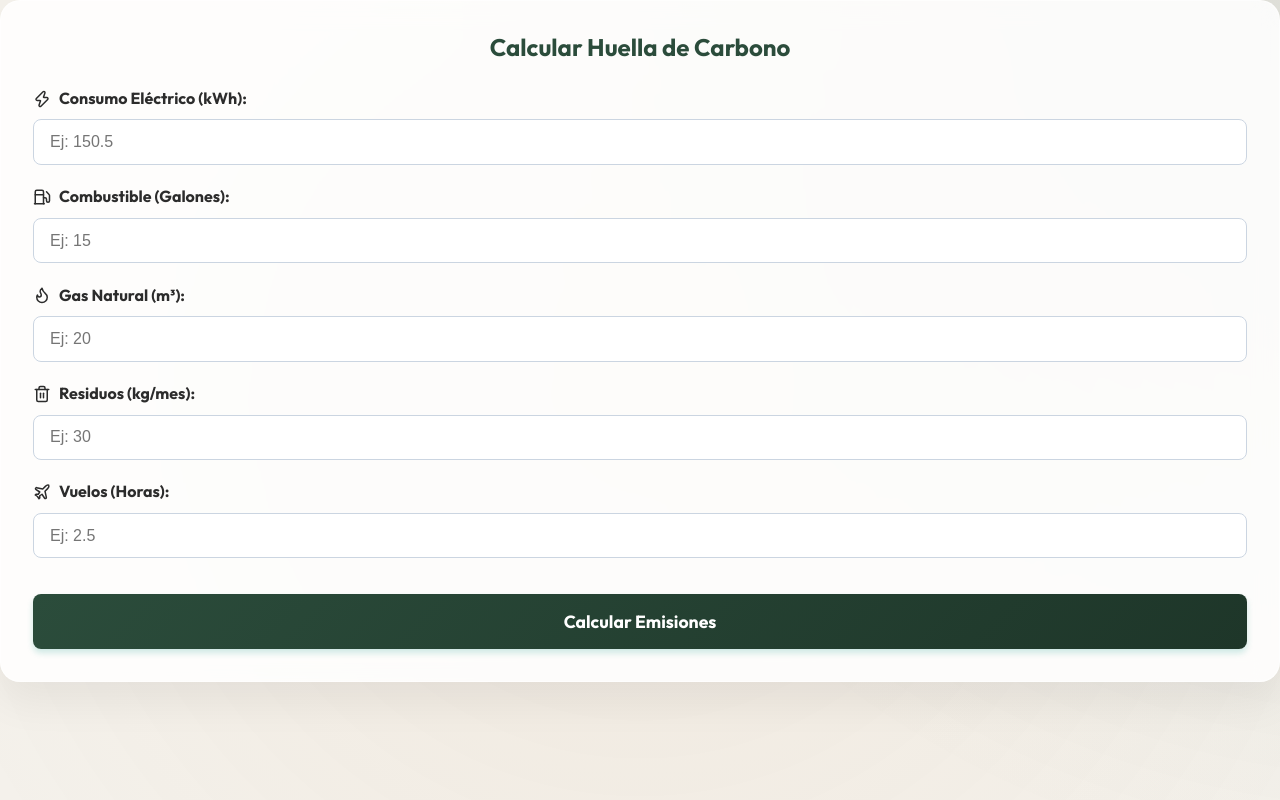
it: EmissionForm Component › shows error if negative values are provided
Type "-10" into the number field labelled "Consumo Eléctrico (kWh):". click: (640, 142)
box: [33,119,1247,165]
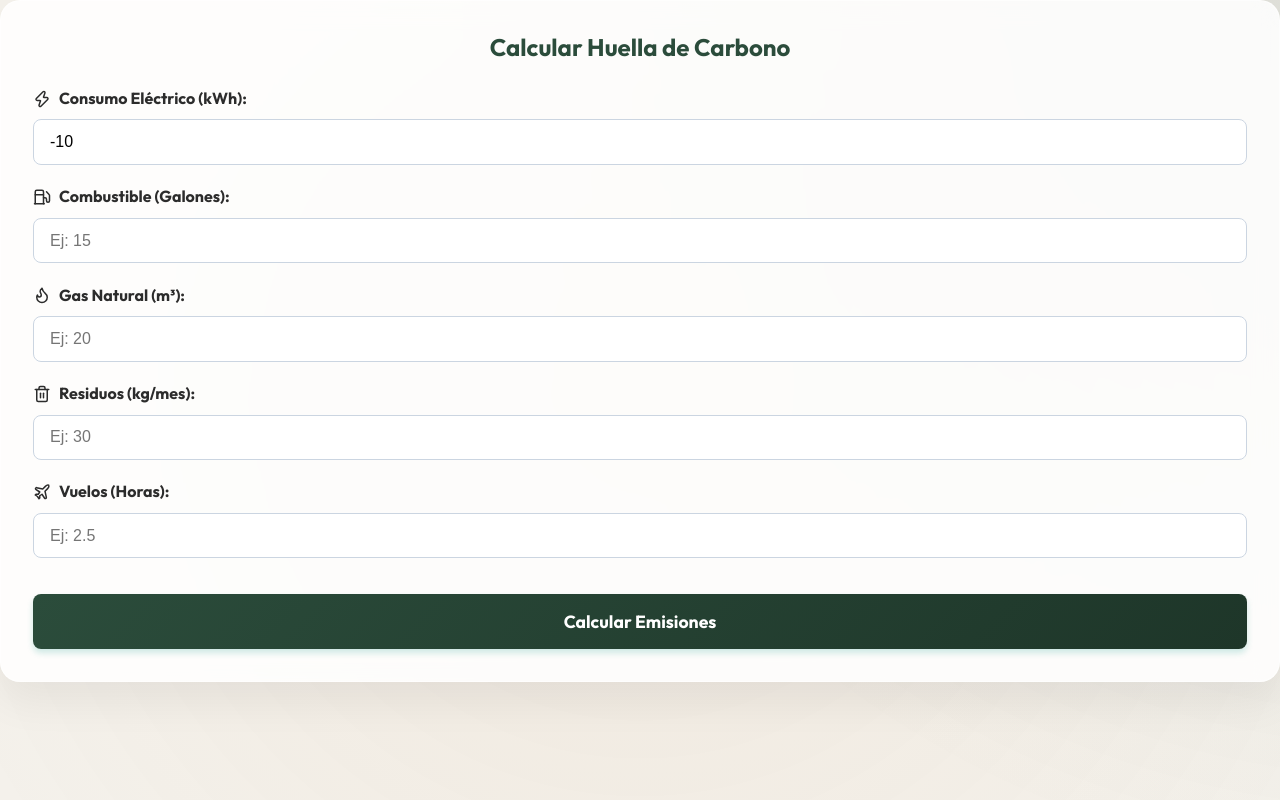
Type "10" into the number field labelled "Combustible (Galones):". click: (640, 241)
box: [33,218,1247,263]
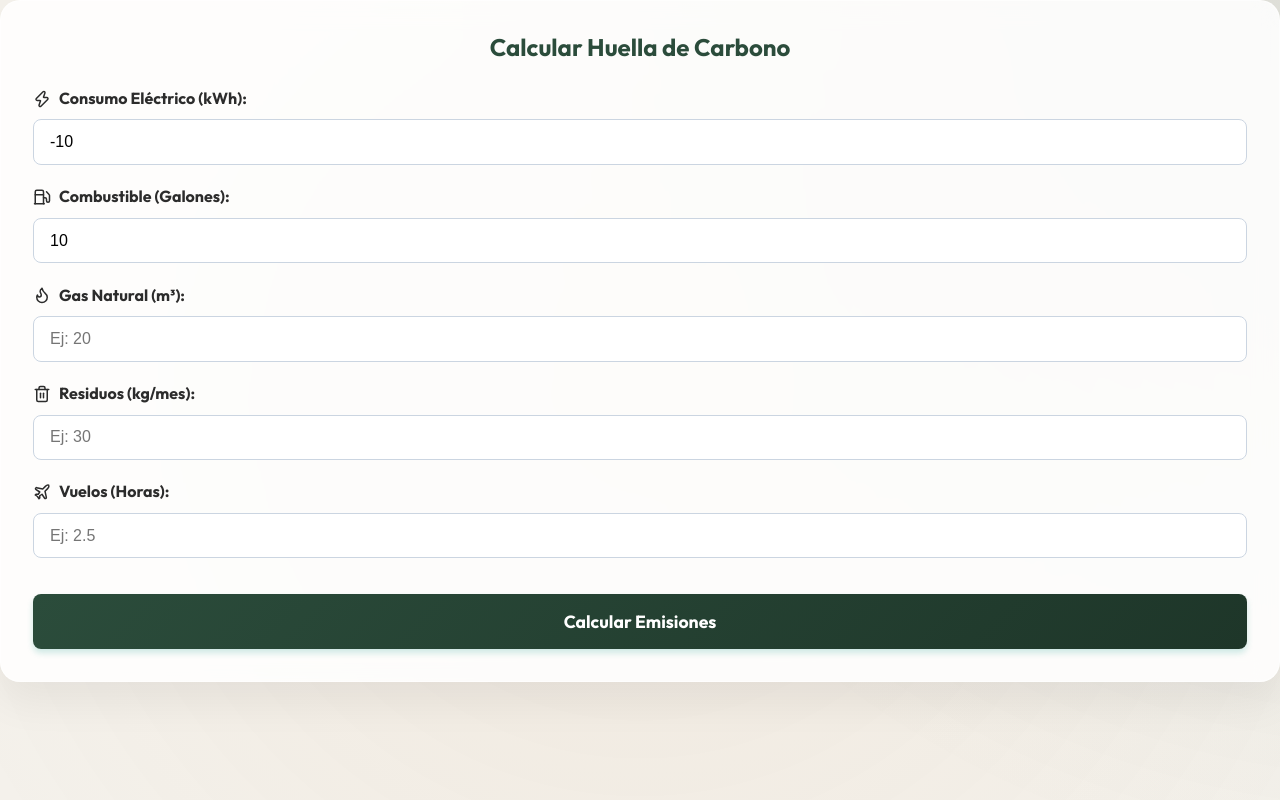
Submit the form named "Calcular Emisiones"
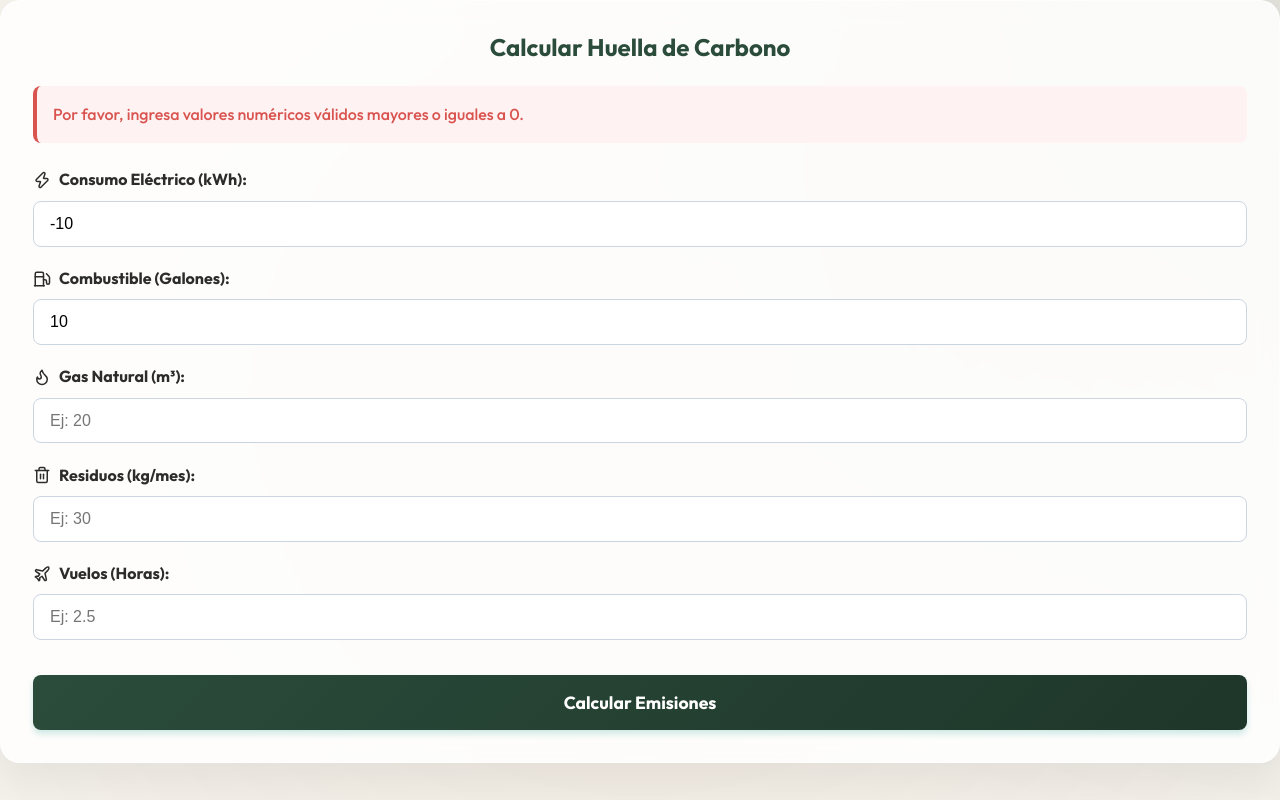
Now the message "Por favor, ingresa valores numéricos válidos mayores o iguales a 0." is shown, box [33,86,1247,143]
